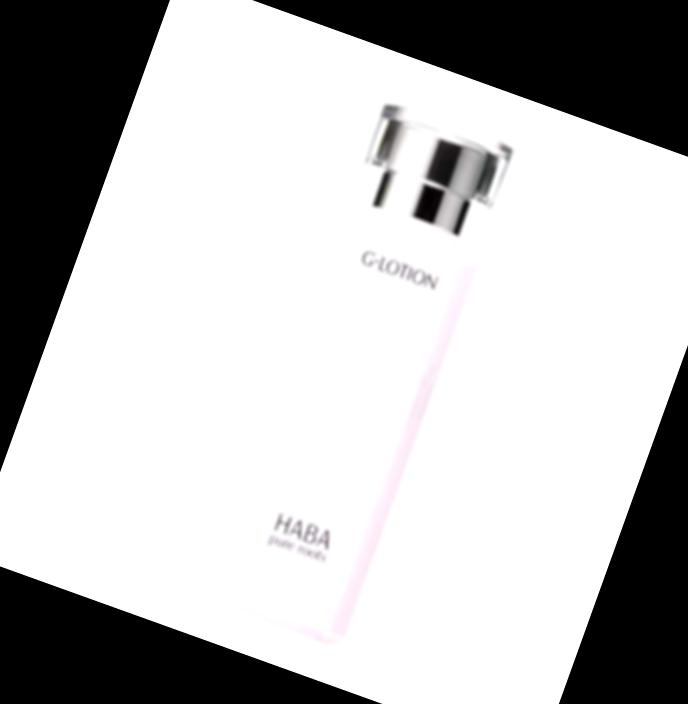cosmetic: (200, 98, 523, 649)
